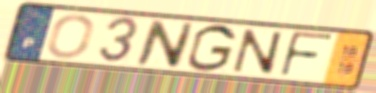3: (95, 15, 140, 66)
F: (276, 30, 336, 80)
G: (184, 23, 239, 74)
N: (133, 19, 197, 71), (231, 27, 284, 77)
O: (44, 13, 97, 60)
